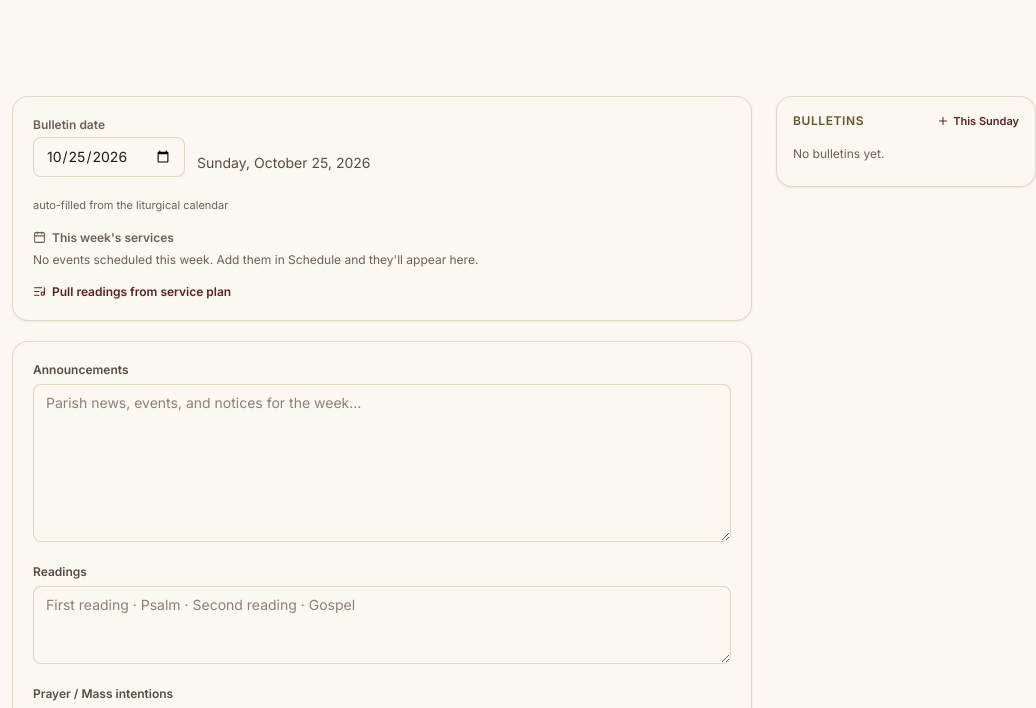
it: a refused pull is not an empty date › a date with no plan still says so
Type "2026-10-04" into the date field labelled "Bulletin date" at (109, 157), box [33, 137, 185, 177]
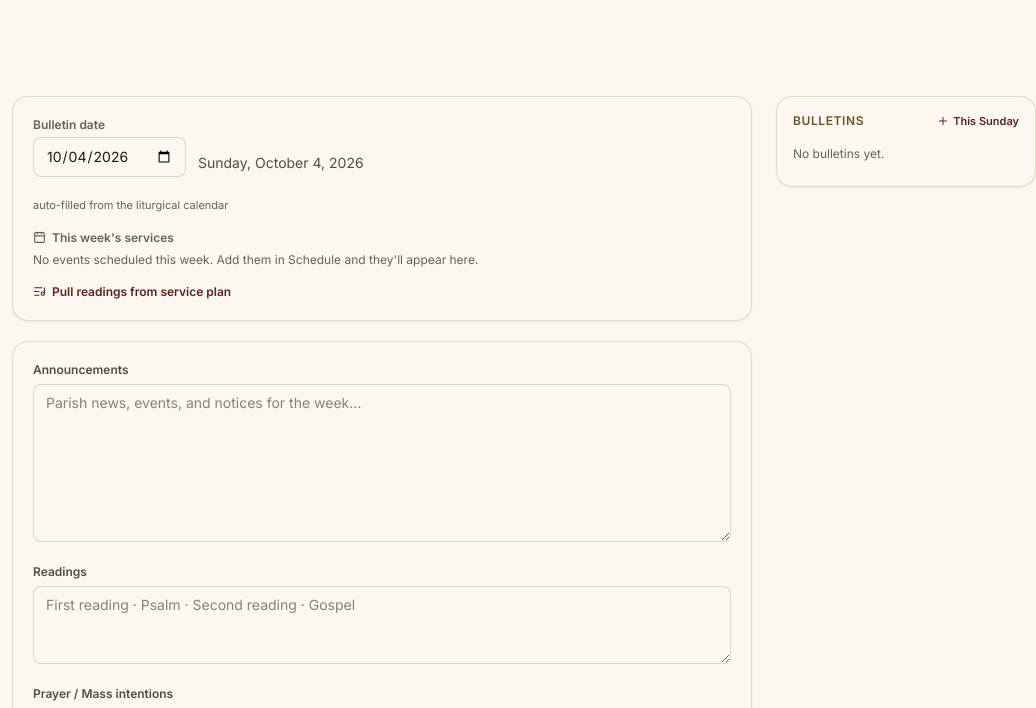
Click the button "Pull readings from service plan" at (132, 292), box [33, 284, 231, 300]
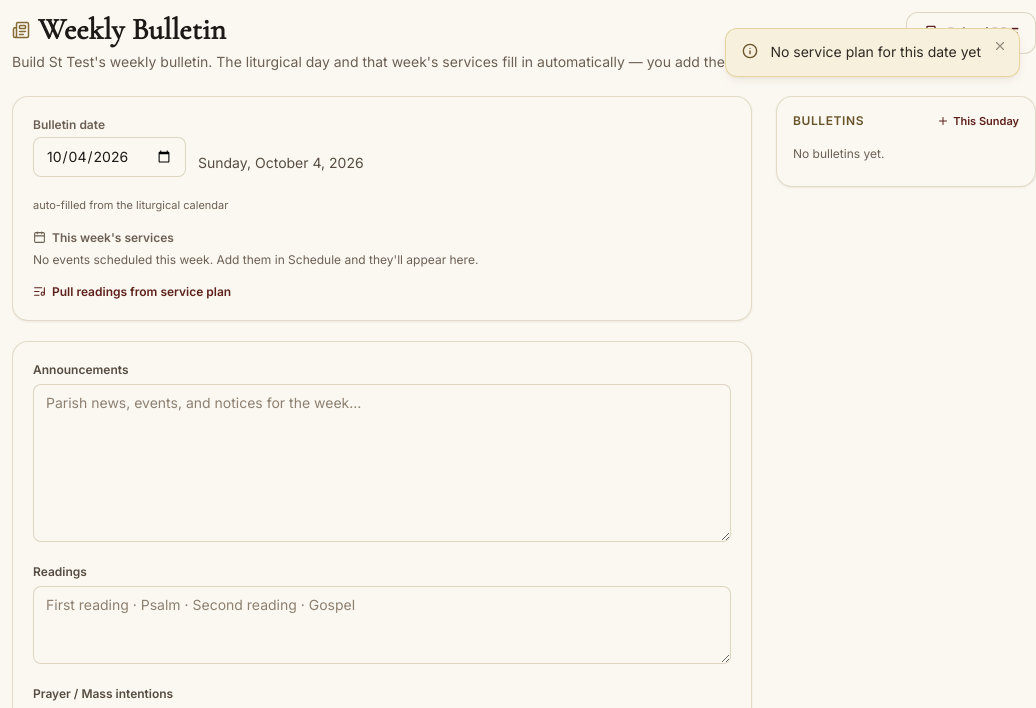
Expected: the message reads "No service plan for this date yet", [770, 43, 981, 60]
